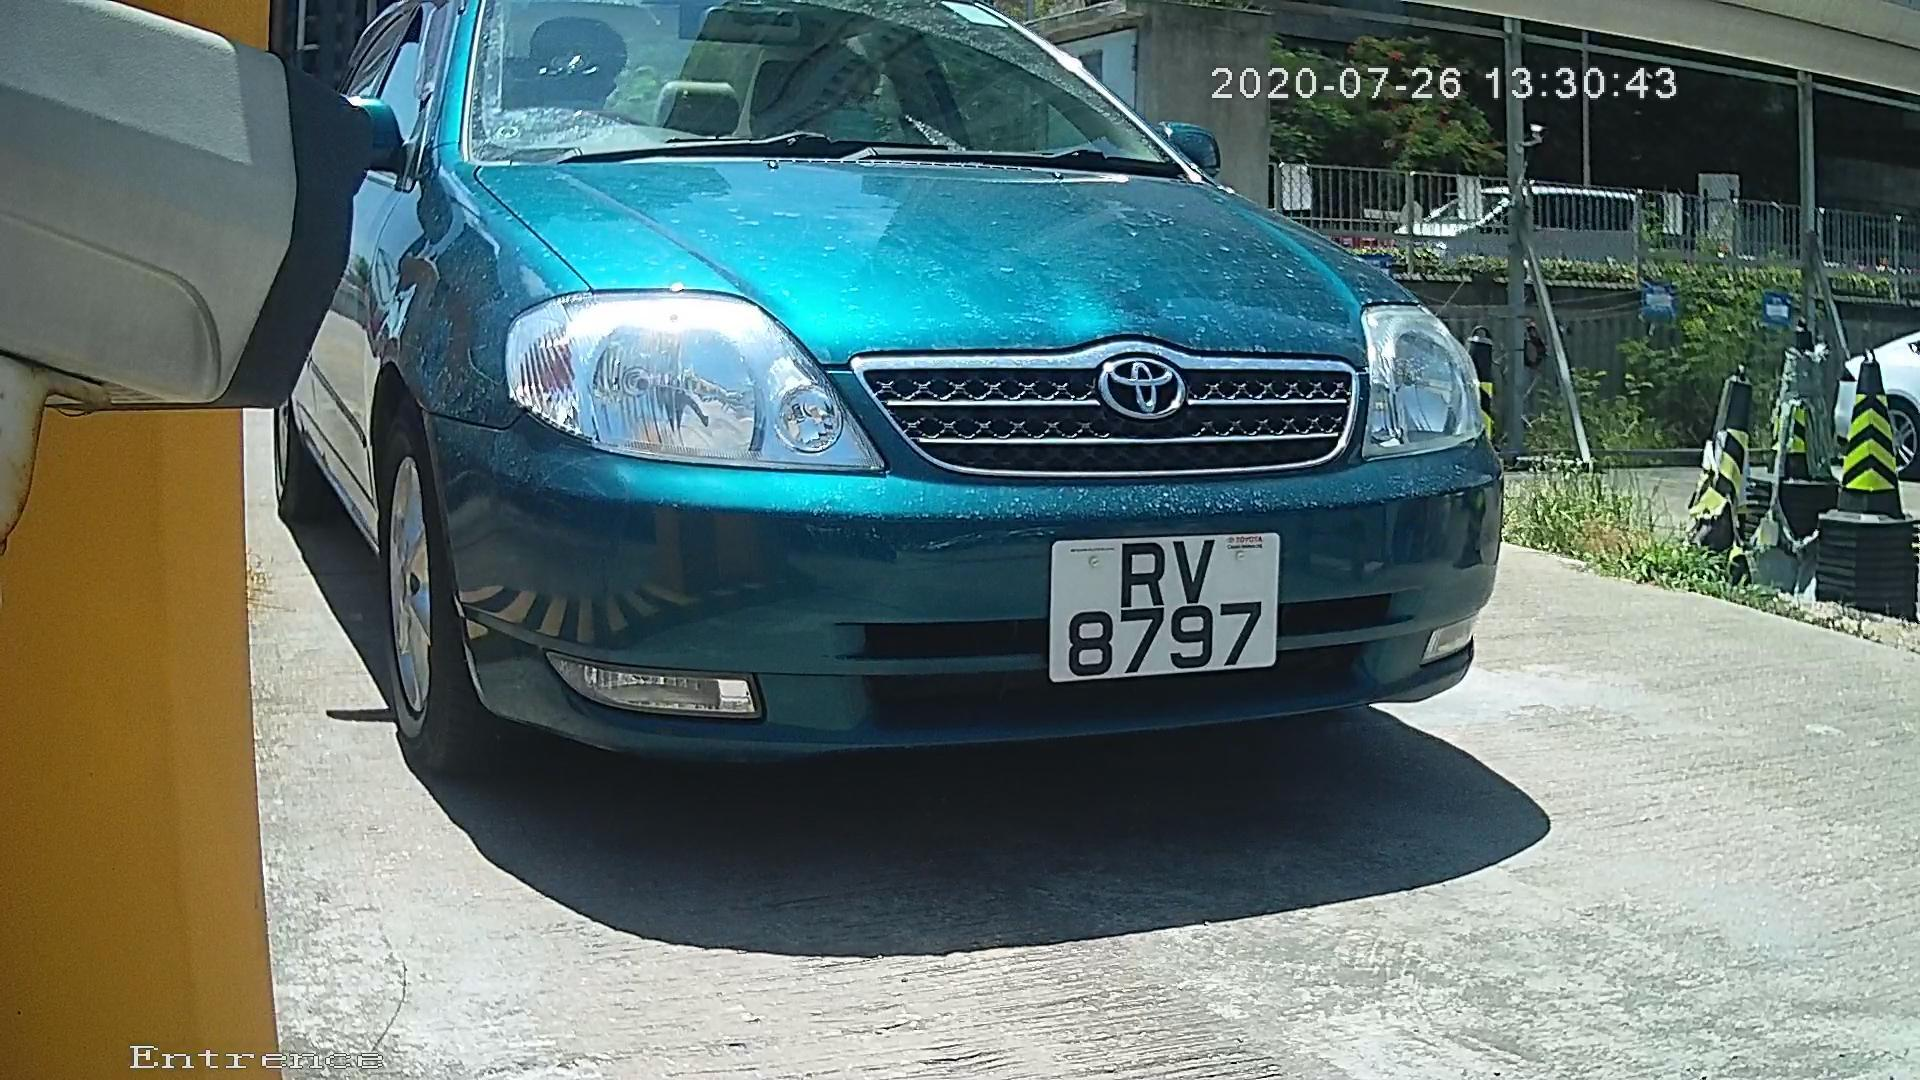privatecar: (258, 11, 1604, 878)
